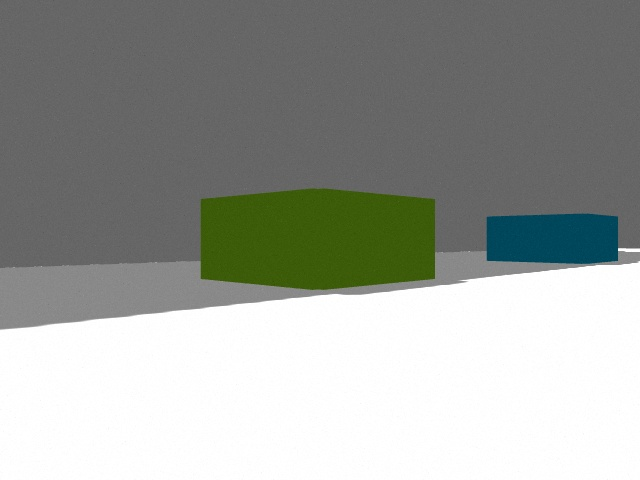blue_drop_zone: (487, 214, 618, 264)
green_drop_zone: (201, 188, 435, 290)
